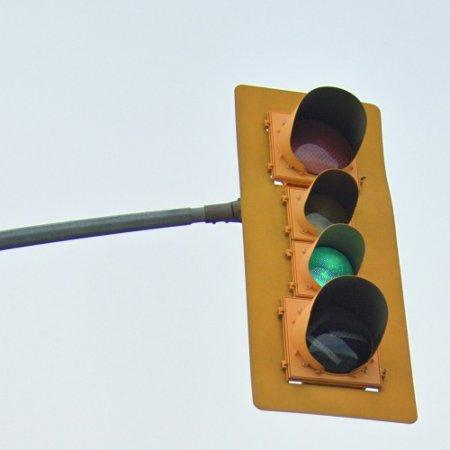traffic lights: (189, 86, 418, 423)
